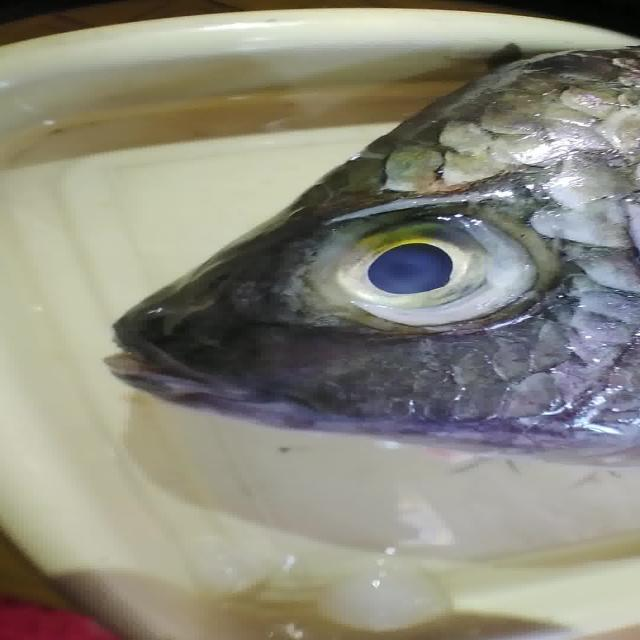Fresh: (302, 201, 579, 328)
